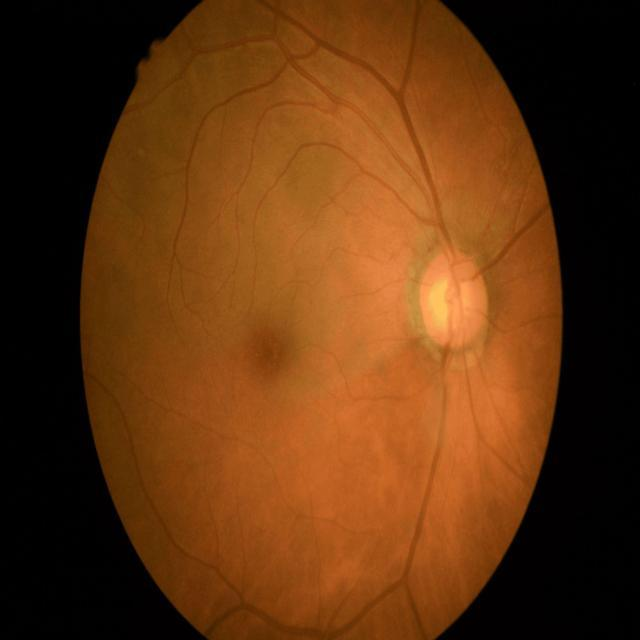cup: (430, 280, 475, 334)
disk: (419, 247, 489, 349)
